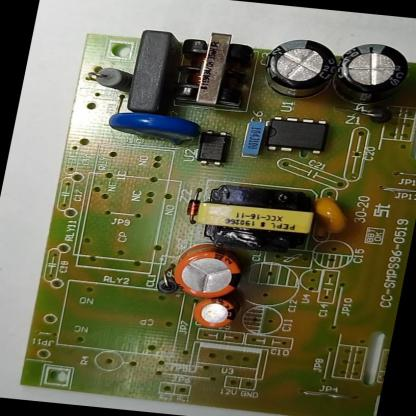Cap1: (168, 249, 244, 301)
Cap2: (192, 298, 237, 328)
Cap3: (263, 39, 335, 101)
Cap4: (332, 40, 410, 108)
MOSFET: (264, 118, 328, 155)
Mov: (106, 111, 196, 145)
Resistor: (88, 66, 131, 92)
Transformer: (193, 184, 318, 252), (174, 30, 254, 108)
